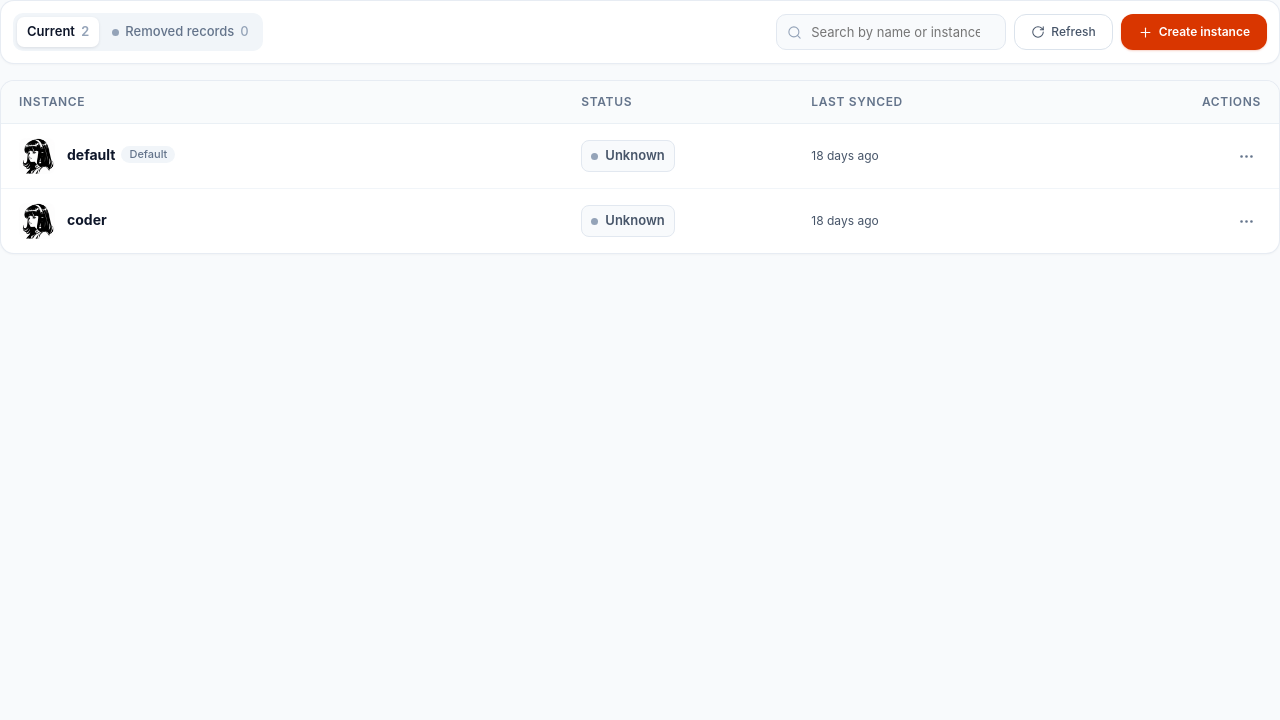
Test: InstancesPage › opens the read-only management panel from an exact Instance action
This screenshot has width=1280, height=720.
Click the button named "More actions" in the row of "coder". click: click(1246, 221)
box: [1231,206,1261,236]
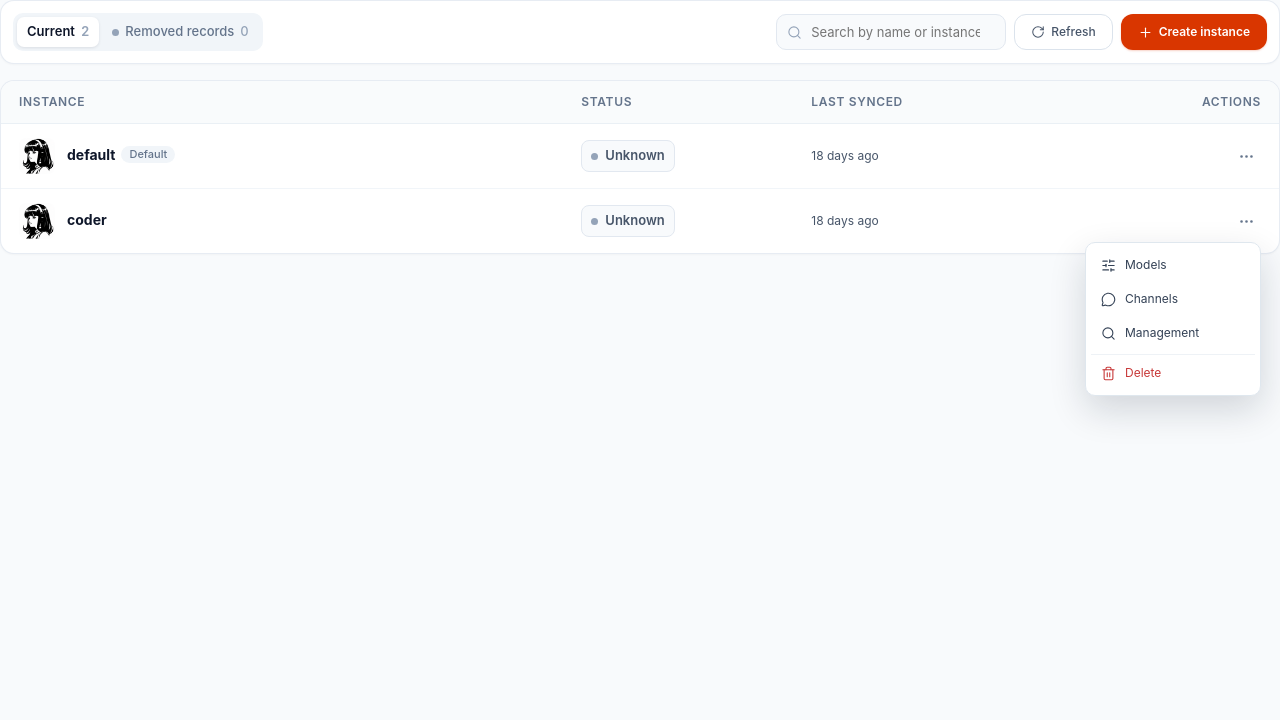
Click the menu item "Management". click: click(1173, 333)
box: [1091,316,1255,350]
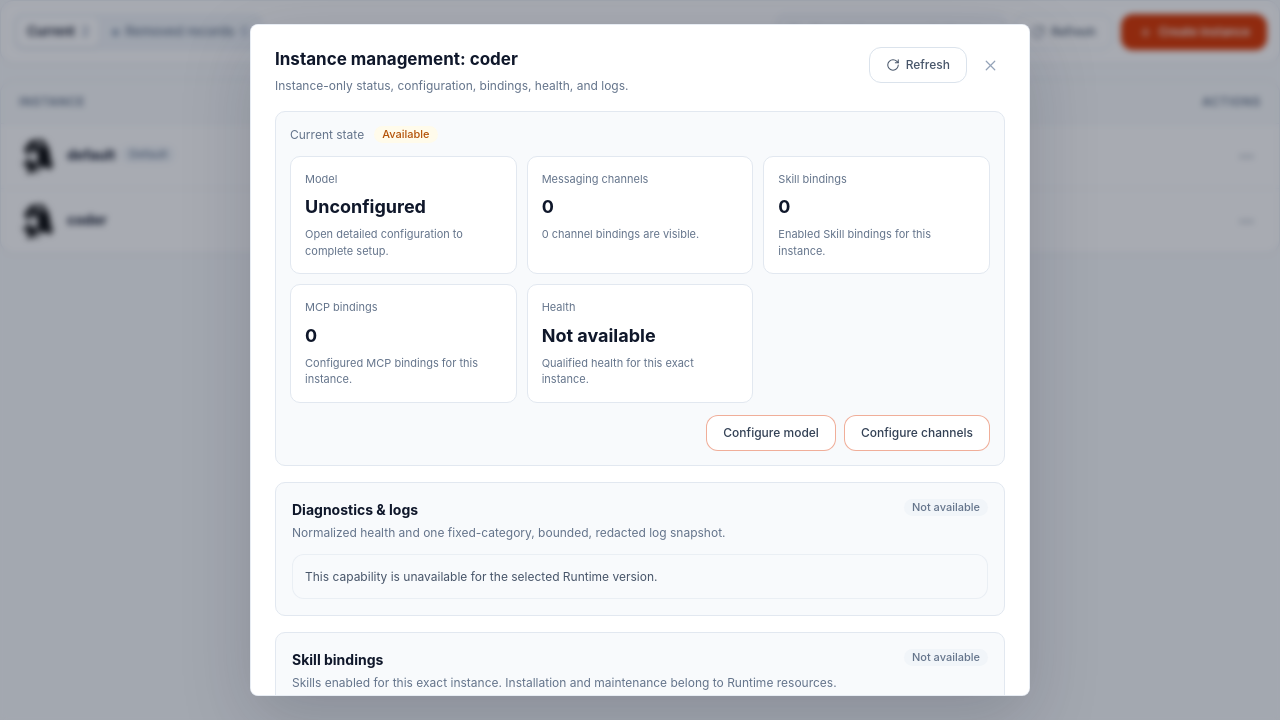
Expected: the dialog "Instance management: coder" is shown, [250,24,1030,696]
Expected: the text "This capability is unavailable for the selected Runtime version." is shown 3 times
